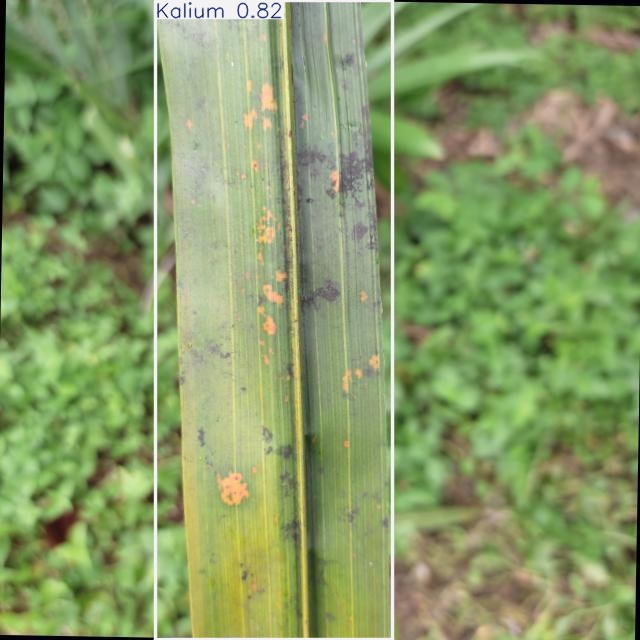Kalium: (156, 1, 393, 639)
